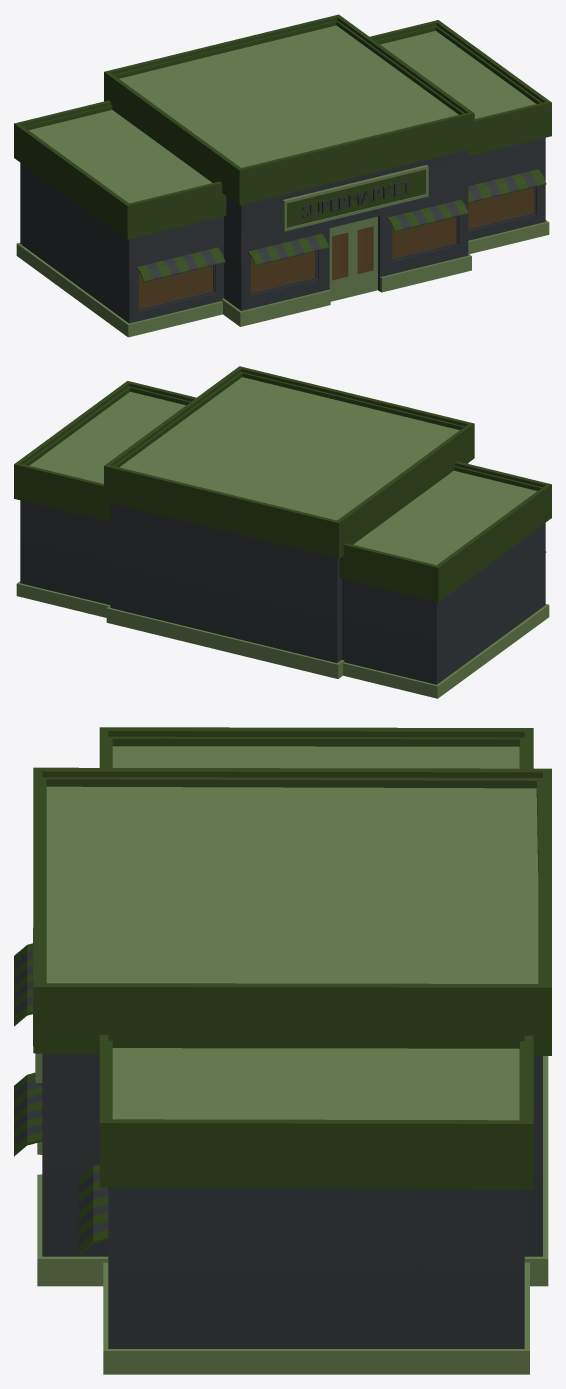
Rendered from Supermarket_02.fbx.
3 renders of one model, top to bottom at view 1: azimuth 30°, elevation 25°; view 2: azimuth 150°, elevation 25°; view 3: azimuth 270°, elevation 25°, orthographic. The views are drawn at different scales.
Visible parts, largest first — view 1: Supermarket_02; view 2: Supermarket_02; view 3: Supermarket_02.
Boxes of the visible parts, x1,y1,x2,y2 form: Supermarket_02: (14, 14, 551, 337); Supermarket_02: (14, 366, 551, 698); Supermarket_02: (14, 727, 551, 1374).
Size of the model in its own units: 12.75 by 4.52 by 7.32.
